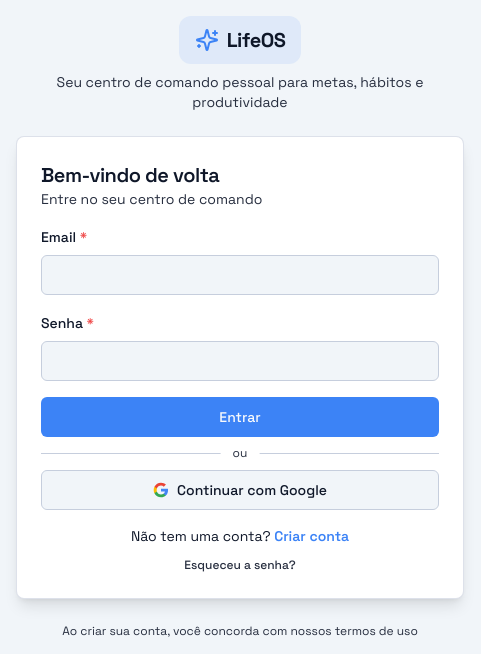
Auth page › hides Google button on forgot password mode
Click the button "Esqueceu a senha?": [240, 564] box [184,556,296,572]
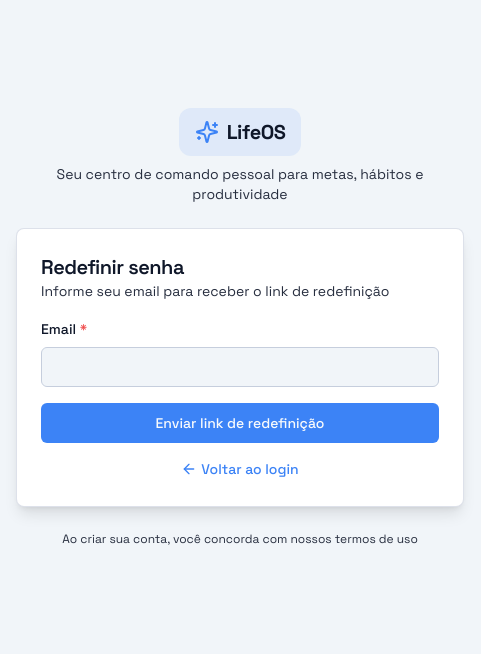
Check: the button "Continuar com Google" is gone
